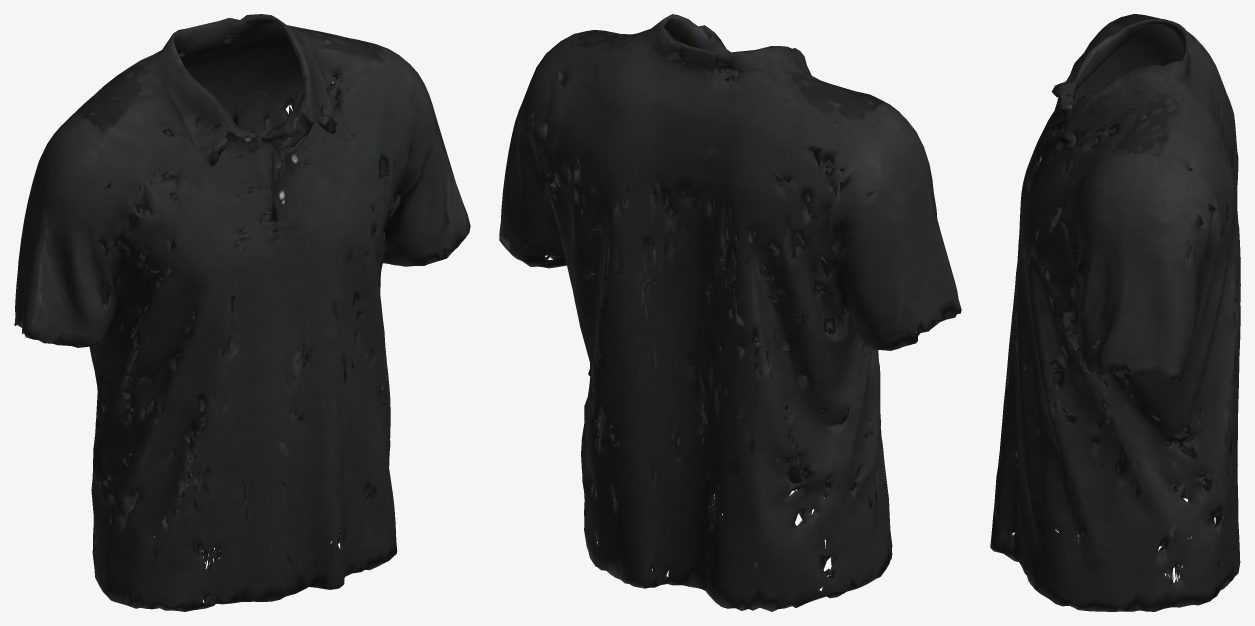
Rendered from modelo.glb.
The picture shows the model from 3 angles, left to right: view 1: azimuth 30°, elevation 25°; view 2: azimuth 150°, elevation 25°; view 3: azimuth 270°, elevation 25°; orthographic projection. The views are drawn at different scales.
Size of the model in its own units: 1.76 by 2.01 by 0.8842.
Materials: 1 (1 with a texture image).
